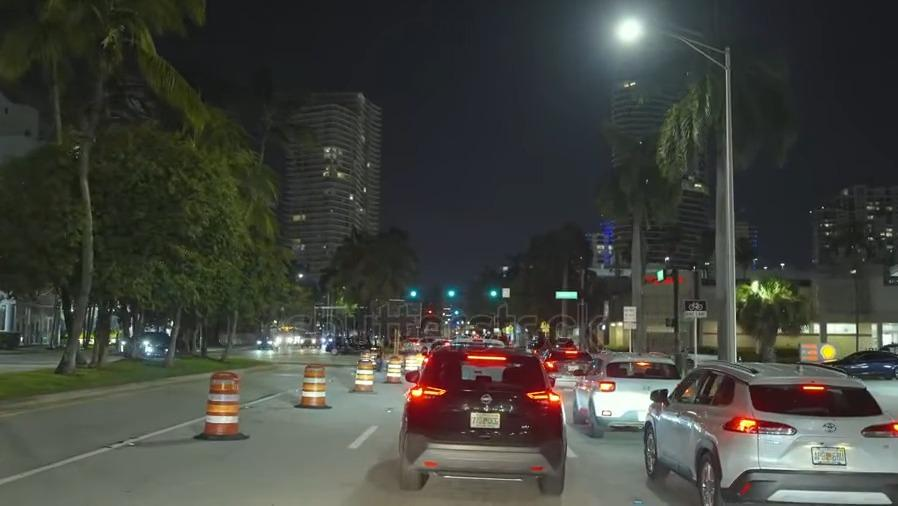car: (648, 358, 898, 504), (399, 345, 567, 491), (574, 355, 672, 422), (825, 344, 898, 378), (542, 347, 589, 380), (122, 331, 164, 352), (149, 341, 191, 356)
cone: (205, 371, 240, 437), (297, 361, 329, 406), (349, 356, 371, 390), (385, 355, 399, 383), (403, 351, 417, 374)
traffic light: (402, 286, 424, 304), (485, 285, 504, 305), (440, 286, 459, 303)
wheel: (693, 450, 718, 501), (642, 421, 664, 474)
